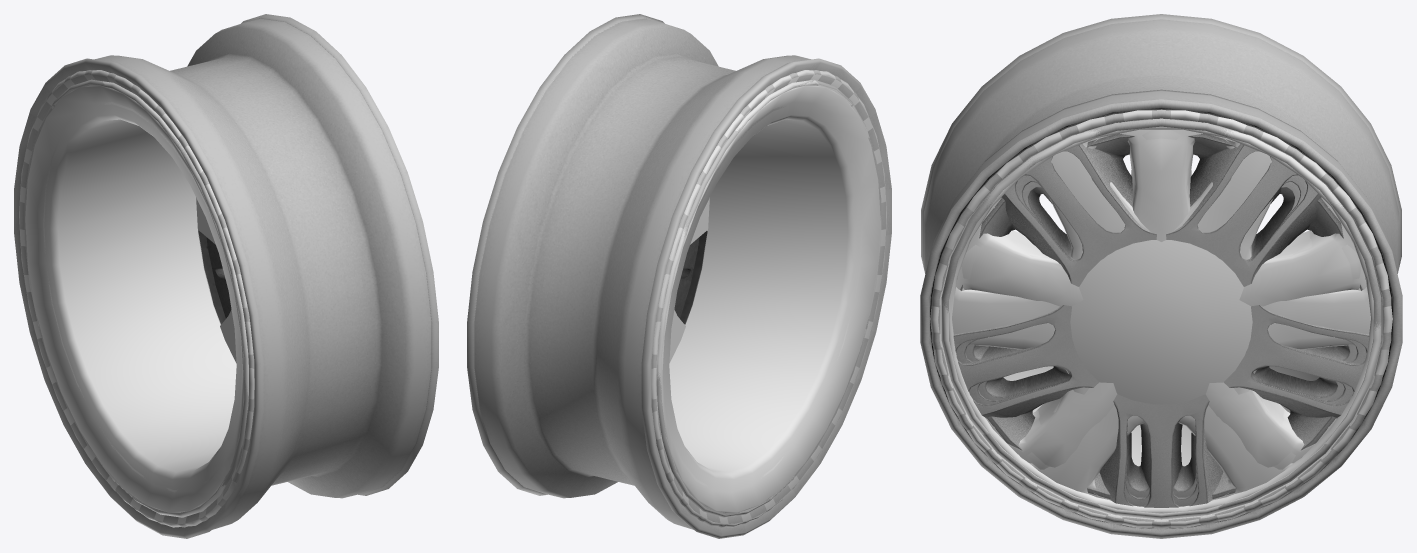
The model's file is blandstroke_mesh.dae.
The picture shows the model from 3 angles, left to right: view 1: azimuth 30°, elevation 25°; view 2: azimuth 150°, elevation 25°; view 3: azimuth 270°, elevation 25°; orthographic projection.
Visible parts, largest first — view 1: bruckell_boldstar_01a_17x7, bruckell_blandstroke_01a_15x7, bruckell_blandstroke_01a_16x7, bruckell_boldstar_01a_16x7, bruckell_boldstar_01a_15x7, bruckell_lotus_01a_15x7; view 2: bruckell_boldstar_01a_17x7, bruckell_blandstroke_01a_15x7, bruckell_blandstroke_01a_16x7, bruckell_boldstar_01a_16x7, bruckell_boldstar_01a_15x7, bruckell_lotus_01a_15x7; view 3: bruckell_boldstar_01a_17x7, bruckell_blandstroke_01a_16x7, bruckell_lotus_01a_15x7, bruckell_boldstar_01a_15x7, bruckell_boldstar_01a_16x7, bruckell_blandstroke_01a_15x7, bruckell_lotus_01a_16x7.
Boxes of the visible parts, box(x1,y1,x2,y2) form: bruckell_boldstar_01a_17x7: box(14, 14, 438, 538); bruckell_blandstroke_01a_15x7: box(25, 85, 244, 512); bruckell_blandstroke_01a_16x7: box(19, 70, 254, 527); bruckell_boldstar_01a_16x7: box(20, 70, 254, 527); bruckell_boldstar_01a_15x7: box(24, 79, 248, 514); bruckell_lotus_01a_15x7: box(27, 81, 248, 517); bruckell_boldstar_01a_17x7: box(467, 14, 891, 538); bruckell_blandstroke_01a_15x7: box(661, 85, 880, 512); bruckell_blandstroke_01a_16x7: box(651, 70, 886, 527); bruckell_boldstar_01a_16x7: box(651, 70, 885, 527); bruckell_boldstar_01a_15x7: box(657, 79, 881, 515); bruckell_lotus_01a_15x7: box(657, 80, 881, 517); bruckell_boldstar_01a_17x7: box(920, 14, 1402, 538); bruckell_blandstroke_01a_16x7: box(930, 110, 1392, 527); bruckell_lotus_01a_15x7: box(941, 118, 1381, 519); bruckell_boldstar_01a_15x7: box(941, 118, 1381, 519); bruckell_boldstar_01a_16x7: box(931, 109, 1391, 528); bruckell_blandstroke_01a_15x7: box(949, 126, 1373, 512); bruckell_lotus_01a_16x7: box(940, 118, 1382, 520).
Size of the model in its own units: 0.2145 by 0.4613 by 0.4638.
3 materials, 1 textured.
